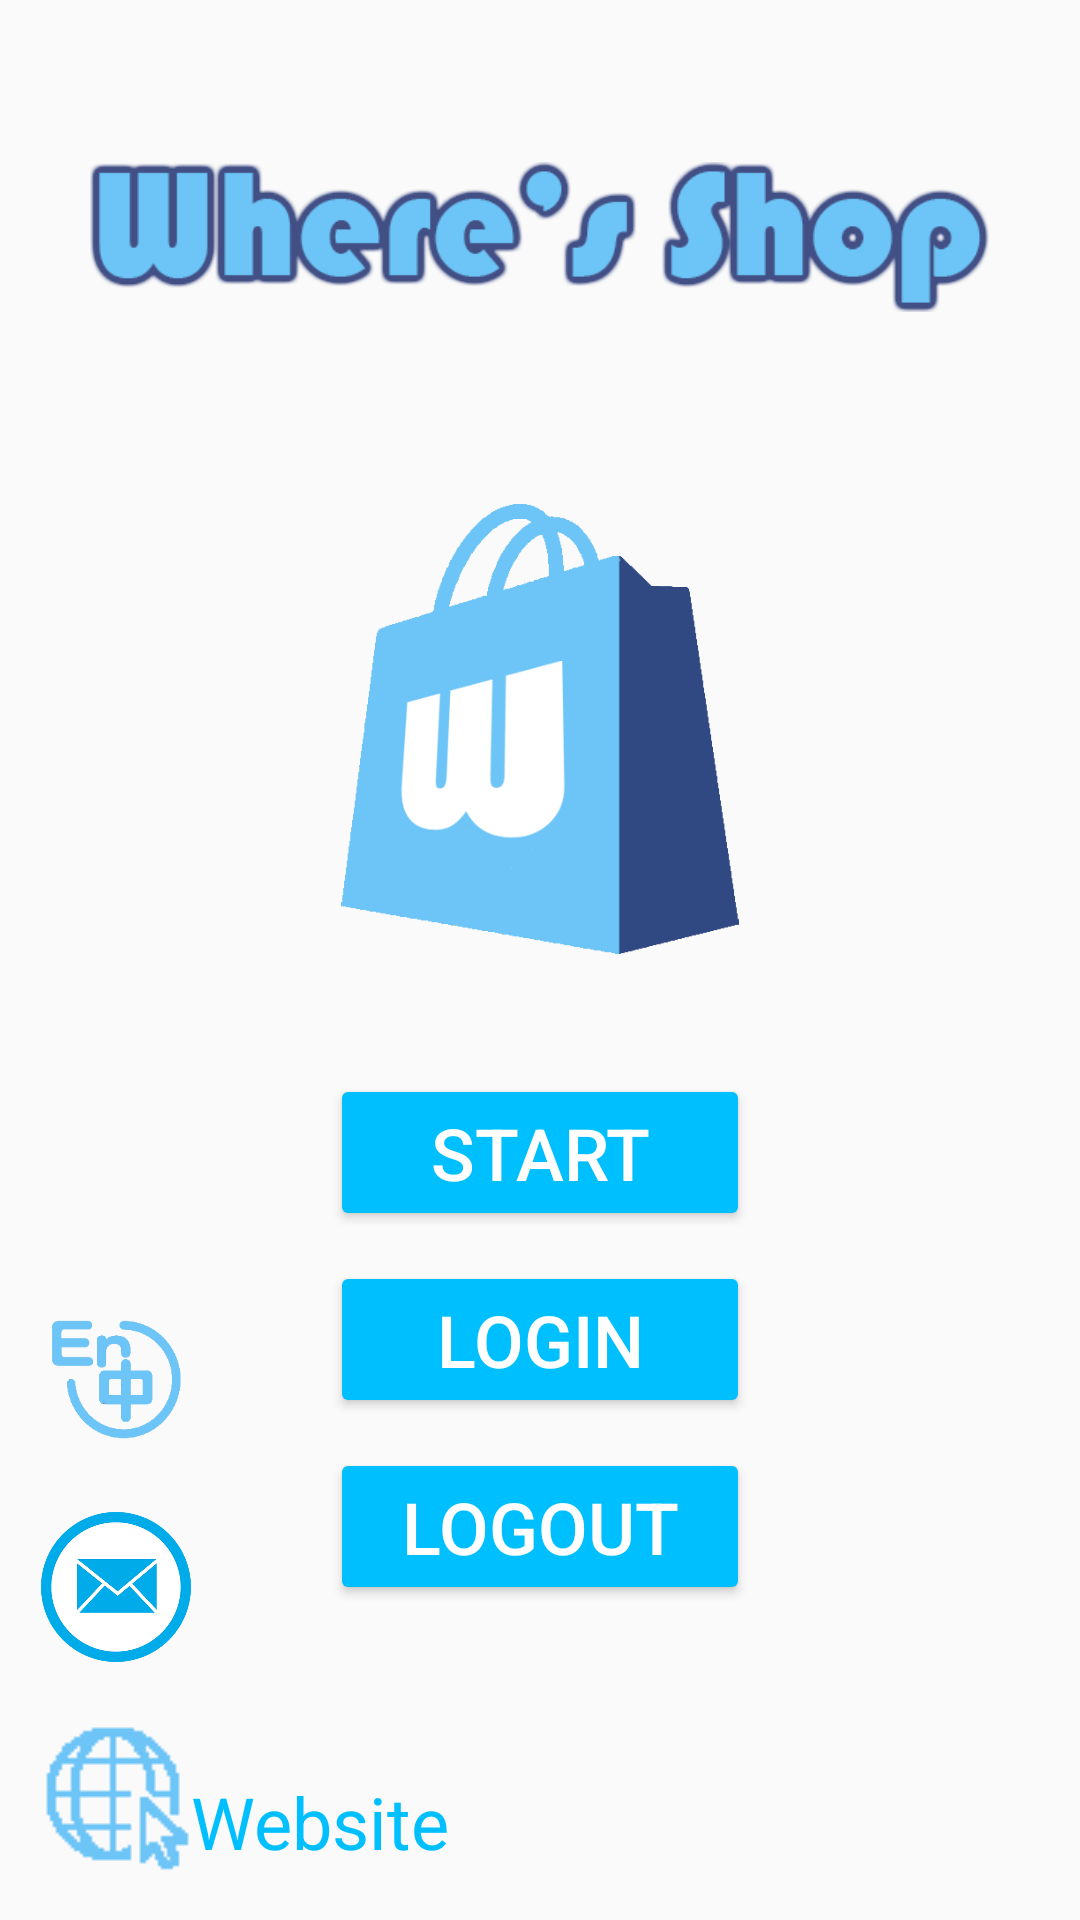

Icon click points for this 1080 x 1920 phone screenshot, format [x,y]:
emailm: [116,1587]
internet: [117,1798]
language: [116,1380]
